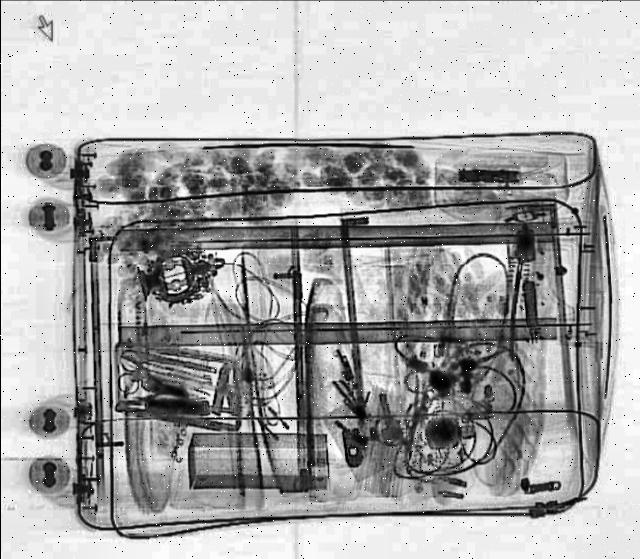Scissors: (108, 349, 204, 409)
